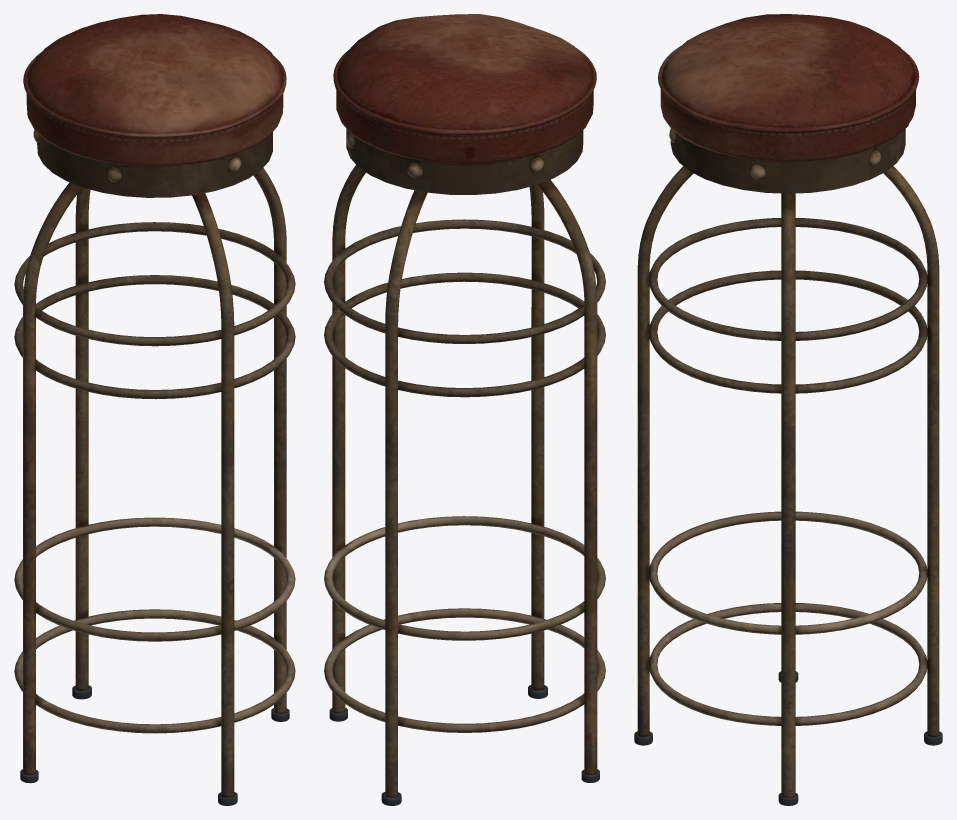
The model's file is metal_stool.glb.
The picture shows the model from 3 angles, left to right: view 1: azimuth 30°, elevation 25°; view 2: azimuth 150°, elevation 25°; view 3: azimuth 270°, elevation 25°; orthographic projection.
Parts seen in each view (by area): view 1: metal_stool_01; view 2: metal_stool_01; view 3: metal_stool_01.
Boxes of the visible parts, x1=… form: metal_stool_01: x1=14, y1=14, x2=295, y2=805; metal_stool_01: x1=324, y1=14, x2=605, y2=805; metal_stool_01: x1=634, y1=14, x2=942, y2=805.
Size of the model in its own units: 0.352 by 0.8828 by 0.3546.
1 material, 1 textured.
